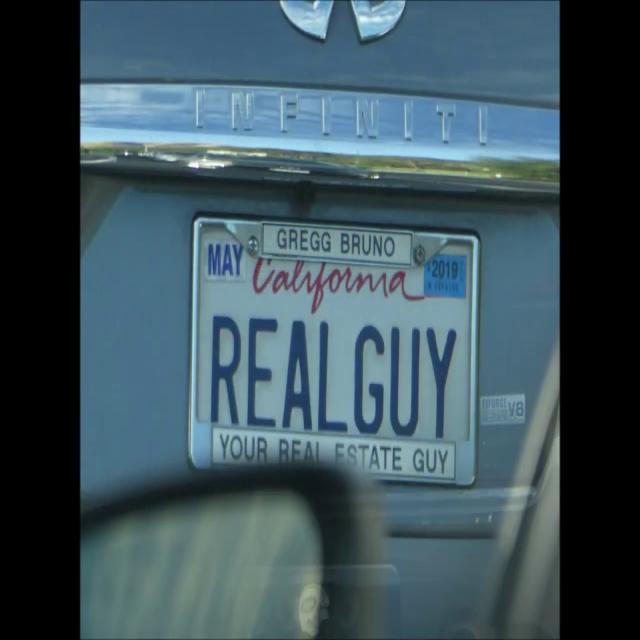licenseplate: (192, 218, 482, 483)
